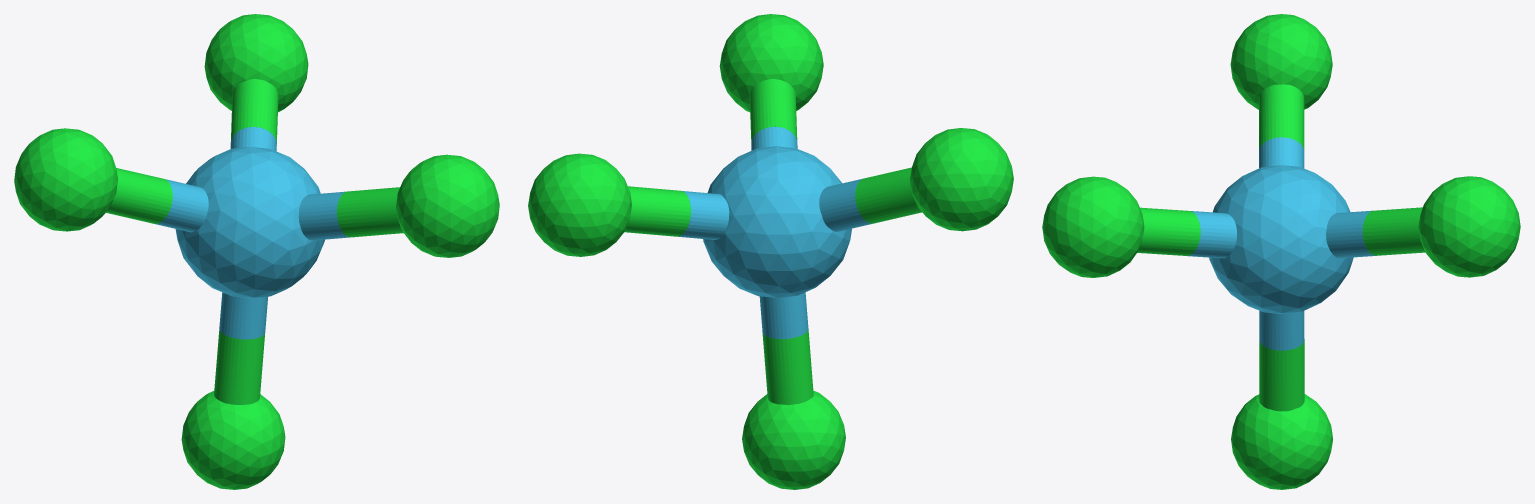
Rendered from XeF4.glb.
3 renders of one model, left to right at view 1: azimuth 30°, elevation 25°; view 2: azimuth 150°, elevation 25°; view 3: azimuth 270°, elevation 25°, orthographic.
Parts seen in each view (by area): view 1: Shape_IndexedFaceSet.010, Shape_IndexedFaceSet.011, Shape_IndexedFaceSet.014, Shape_IndexedFaceSet.012, Shape_IndexedFaceSet.013, Shape_IndexedFaceSet.022, Shape_IndexedFaceSet.015, Shape_IndexedFaceSet.026, Shape_IndexedFaceSet.019, Shape_IndexedFaceSet.024, Shape_IndexedFaceSet.017, Shape_IndexedFaceSet.025 (+1 smaller); view 2: Shape_IndexedFaceSet.010, Shape_IndexedFaceSet.013, Shape_IndexedFaceSet.011, Shape_IndexedFaceSet.012, Shape_IndexedFaceSet.014, Shape_IndexedFaceSet.022, Shape_IndexedFaceSet.019, Shape_IndexedFaceSet.026, Shape_IndexedFaceSet.015, Shape_IndexedFaceSet.024, Shape_IndexedFaceSet.021, Shape_IndexedFaceSet.025 (+1 smaller); view 3: Shape_IndexedFaceSet.010, Shape_IndexedFaceSet.014, Shape_IndexedFaceSet.013, Shape_IndexedFaceSet.012, Shape_IndexedFaceSet.011, Shape_IndexedFaceSet.022, Shape_IndexedFaceSet.019, Shape_IndexedFaceSet.015, Shape_IndexedFaceSet.026, Shape_IndexedFaceSet.017, Shape_IndexedFaceSet.021, Shape_IndexedFaceSet.024 (+1 smaller).
Part boxes in pixels (<box>): Shape_IndexedFaceSet.010: <box>175,147,324,298</box>; Shape_IndexedFaceSet.011: <box>14,128,117,231</box>; Shape_IndexedFaceSet.014: <box>396,154,499,257</box>; Shape_IndexedFaceSet.012: <box>181,391,285,489</box>; Shape_IndexedFaceSet.013: <box>204,14,308,112</box>; Shape_IndexedFaceSet.022: <box>214,330,264,404</box>; Shape_IndexedFaceSet.015: <box>337,187,403,237</box>; Shape_IndexedFaceSet.026: <box>106,168,172,223</box>; Shape_IndexedFaceSet.019: <box>231,79,278,143</box>; Shape_IndexedFaceSet.024: <box>219,292,267,339</box>; Shape_IndexedFaceSet.017: <box>298,191,349,240</box>; Shape_IndexedFaceSet.025: <box>155,179,208,232</box>; Shape_IndexedFaceSet.010: <box>703,146,851,297</box>; Shape_IndexedFaceSet.013: <box>528,153,631,256</box>; Shape_IndexedFaceSet.011: <box>910,128,1013,231</box>; Shape_IndexedFaceSet.012: <box>742,390,845,489</box>; Shape_IndexedFaceSet.014: <box>719,14,823,112</box>; Shape_IndexedFaceSet.022: <box>762,328,813,404</box>; Shape_IndexedFaceSet.019: <box>624,186,690,236</box>; Shape_IndexedFaceSet.026: <box>855,167,921,223</box>; Shape_IndexedFaceSet.015: <box>749,79,797,141</box>; Shape_IndexedFaceSet.024: <box>759,292,808,339</box>; Shape_IndexedFaceSet.021: <box>678,191,729,239</box>; Shape_IndexedFaceSet.025: <box>819,178,872,231</box>; Shape_IndexedFaceSet.010: <box>1209,165,1353,313</box>; Shape_IndexedFaceSet.014: <box>1042,176,1144,277</box>; Shape_IndexedFaceSet.013: <box>1418,176,1520,277</box>; Shape_IndexedFaceSet.012: <box>1231,394,1332,489</box>; Shape_IndexedFaceSet.011: <box>1230,14,1332,109</box>; Shape_IndexedFaceSet.022: <box>1259,339,1304,411</box>; Shape_IndexedFaceSet.019: <box>1362,207,1425,255</box>; Shape_IndexedFaceSet.015: <box>1137,207,1200,255</box>; Shape_IndexedFaceSet.026: <box>1259,84,1304,149</box>; Shape_IndexedFaceSet.017: <box>1187,211,1236,258</box>; Shape_IndexedFaceSet.021: <box>1326,210,1375,258</box>; Shape_IndexedFaceSet.024: <box>1259,310,1304,350</box>.
Bounding box in the file's own units: 0.3713 × 0.3714 × 0.4163.
